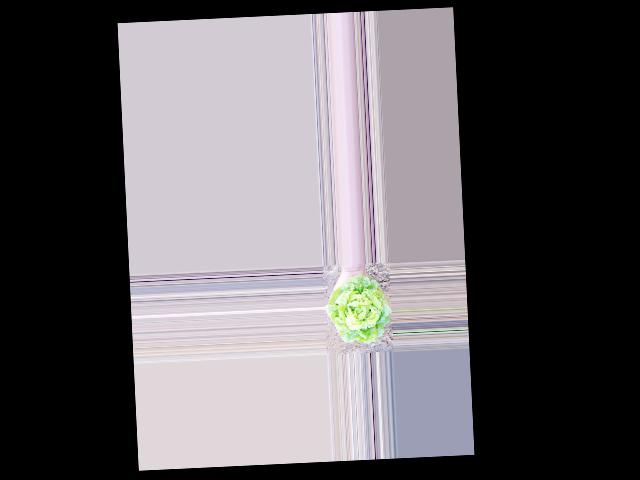lettuce: (326, 277, 391, 346)
